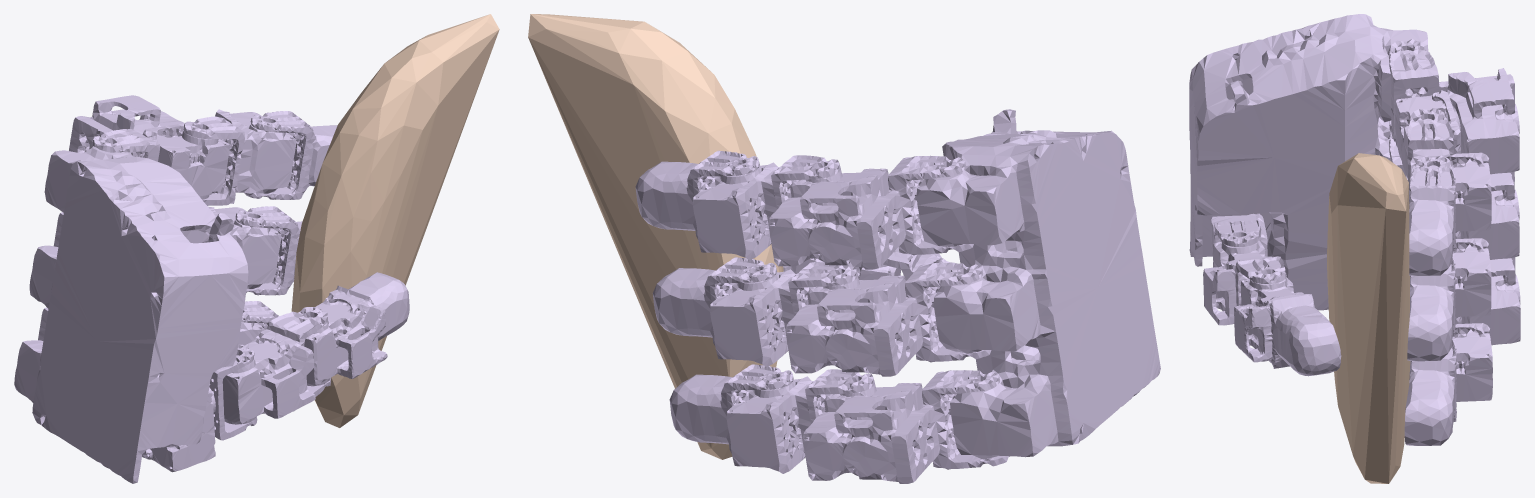
File: ec9e674f146b9b-closed.glb
The picture shows the model from 3 angles, left to right: view 1: azimuth 30°, elevation 25°; view 2: azimuth 150°, elevation 25°; view 3: azimuth 270°, elevation 25°; orthographic projection. The views are drawn at different scales.
Visible parts, largest first — view 1: LEAP_hand, world; view 2: LEAP_hand, world; view 3: LEAP_hand, world.
Part boxes in pixels (x1,y1,x2,y2): LEAP_hand: (14, 95, 409, 483); world: (291, 14, 499, 427); LEAP_hand: (635, 109, 1160, 483); world: (528, 14, 783, 459); LEAP_hand: (1189, 14, 1520, 445); world: (1327, 153, 1410, 483).
Bounding box in the file's own units: 0.2419 × 0.1775 × 0.1442.
